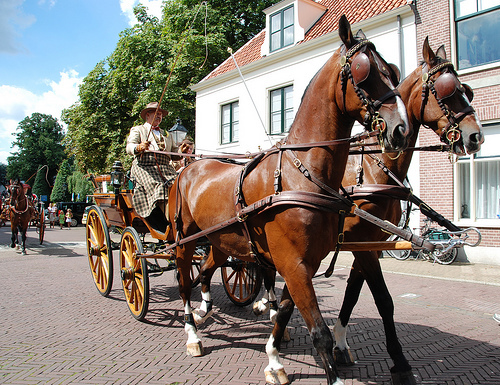horse: (162, 15, 414, 385), (252, 36, 485, 385), (7, 178, 36, 256)
